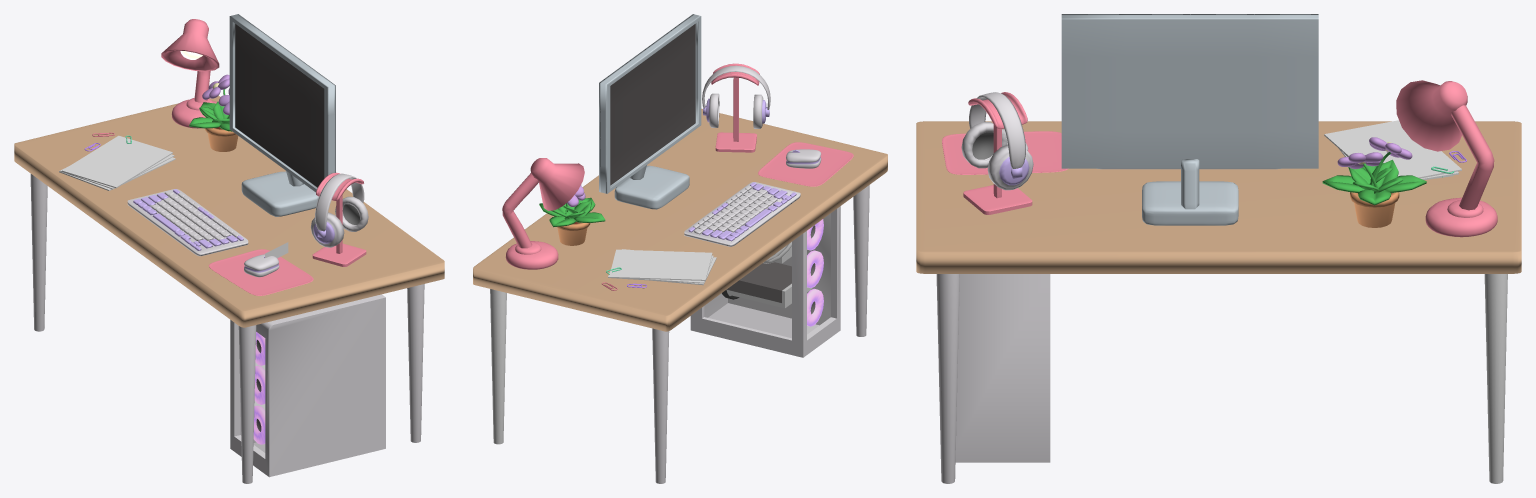
Rendered from akcesoria.glb.
3 renders of one model, left to right at view 1: azimuth 30°, elevation 25°; view 2: azimuth 150°, elevation 25°; view 3: azimuth 270°, elevation 25°, orthographic. The views are drawn at different scales.
Parts seen in each view (by area): view 1: Cube, Cube.001, Cube.006, Cube.063, Plane.003, Cylinder.001, Cylinder.009, podkladka, Cylinder, Cylinder.004, Cylinder.003, Cylinder.011 (+2 smaller); view 2: Cube, Cube.006, Cube.001, Cylinder.001, Cube.063, Plane.003, podkladka, Cylinder.003, Cylinder.005, Cube.003, Cylinder, Cylinder.008 (+5 smaller); view 3: Cube, Cube.006, Cube.001, Cylinder.001, Cylinder.009, Cylinder.005, Cylinder.004, Plane.003, Cylinder.008, podkladka, Cylinder.011.
Boxes of the visible parts, x1,y1,x2,y2 form: Cube: [14, 95, 444, 327]; Cube.001: [230, 294, 385, 477]; Cube.006: [229, 14, 335, 216]; Cube.063: [127, 189, 248, 256]; Plane.003: [59, 135, 175, 190]; Cylinder.001: [161, 19, 219, 128]; Cylinder.009: [310, 173, 368, 247]; podkladka: [208, 249, 313, 295]; Cylinder: [238, 325, 256, 483]; Cylinder.004: [407, 284, 424, 442]; Cylinder.003: [30, 174, 47, 331]; Cylinder.011: [312, 172, 366, 266]; Cube: [473, 108, 887, 331]; Cube.006: [599, 14, 701, 209]; Cube.001: [690, 206, 840, 357]; Cylinder.001: [502, 158, 584, 269]; Cube.063: [684, 182, 800, 246]; Plane.003: [608, 249, 716, 285]; podkladka: [758, 142, 853, 186]; Cylinder.003: [652, 328, 669, 483]; Cylinder.005: [490, 289, 506, 444]; Cube.003: [726, 262, 812, 308]; Cylinder: [853, 185, 869, 336]; Cylinder.008: [539, 197, 605, 245]; Cube: [916, 121, 1521, 273]; Cube.006: [1061, 14, 1318, 225]; Cube.001: [955, 274, 1050, 462]; Cylinder.001: [1396, 80, 1497, 237]; Cylinder.009: [961, 92, 1033, 190]; Cylinder.005: [1484, 274, 1507, 483]; Cylinder.004: [936, 274, 959, 483]; Plane.003: [1324, 120, 1461, 180]; Cylinder.008: [1322, 159, 1426, 227]; podkladka: [942, 131, 1068, 174]; Cylinder.011: [963, 92, 1032, 214].
Bounding box in the file's own units: 0.0684 × 0.1067 × 0.1334.
